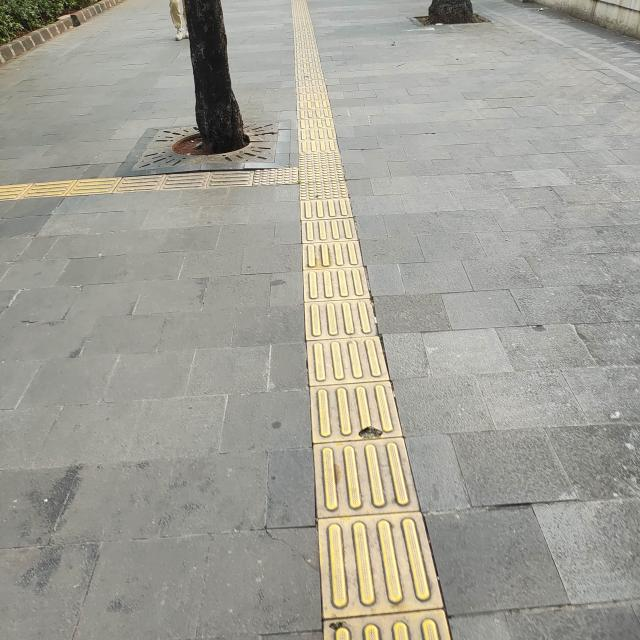lurus: (289, 216, 456, 640), (278, 1, 342, 152)
